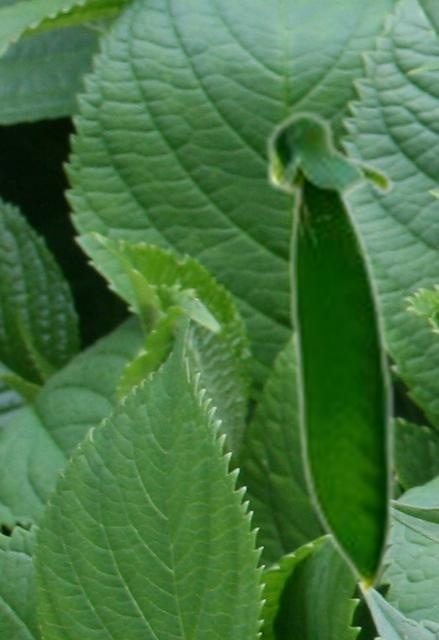pea: (263, 107, 396, 604)
